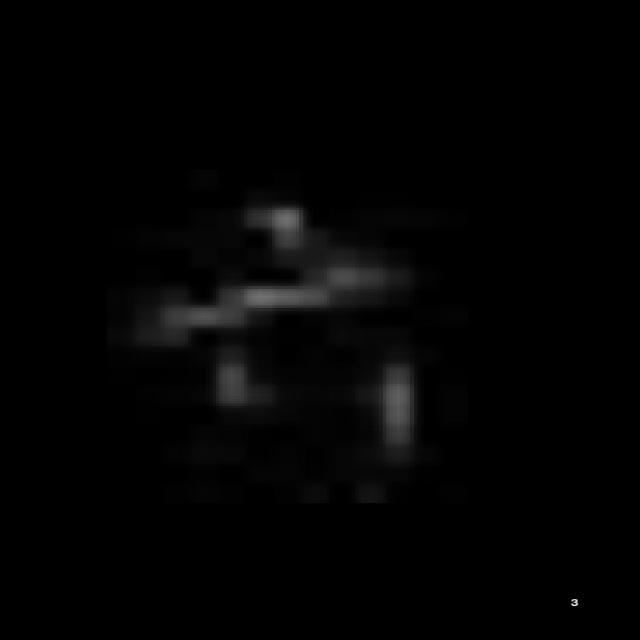6 -six-: (142, 196, 432, 460)
